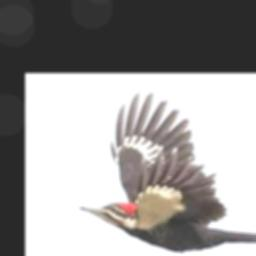Woodpecker: (78, 92, 256, 250)
